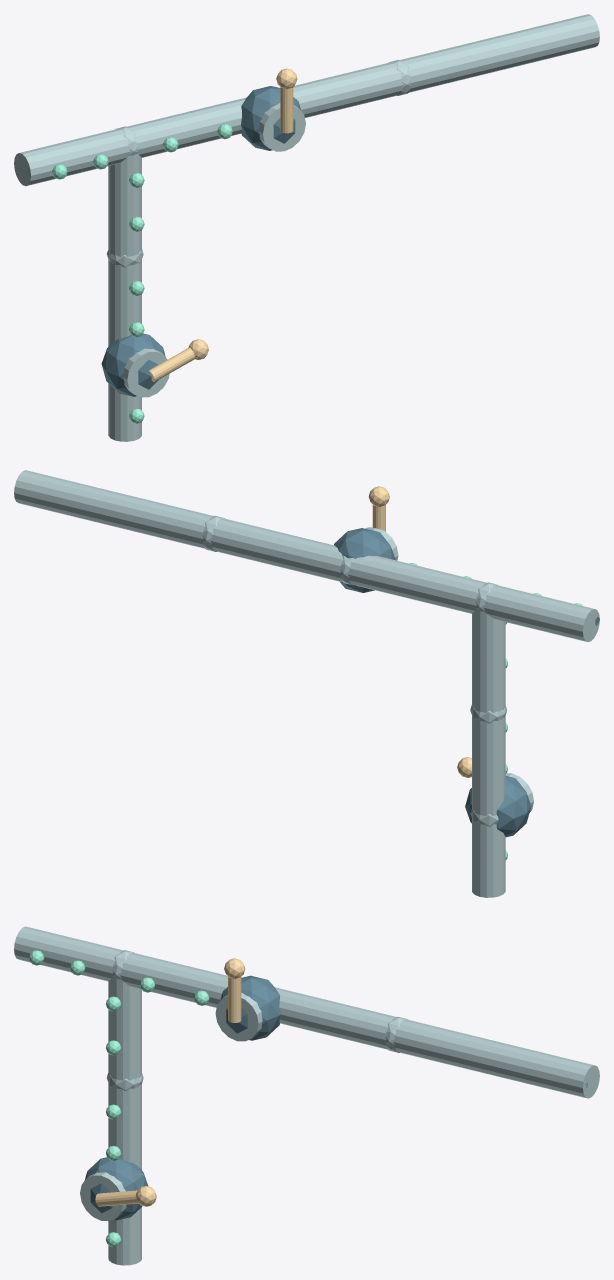
Rendered from air-01-1.glb.
The picture shows the model from 3 angles, top to bottom: view 1: azimuth 30°, elevation 25°; view 2: azimuth 150°, elevation 25°; view 3: azimuth 330°, elevation 25°; orthographic projection.
Visible parts, largest first — view 1: pipe, dark, handle, flow; view 2: pipe, dark, handle; view 3: pipe, dark, handle, flow.
Part boxes in pixels (<box>): pipe: <box>14,14,599,441</box>; dark: <box>28,86,300,396</box>; handle: <box>149,68,297,381</box>; flow: <box>52,124,232,423</box>; pipe: <box>14,470,599,897</box>; dark: <box>334,528,599,837</box>; handle: <box>368,486,471,777</box>; pipe: <box>14,926,599,1265</box>; dark: <box>84,975,587,1220</box>; handle: <box>95,958,245,1206</box>; flow: <box>29,950,209,1247</box>.
Bounding box in the file's own units: 2.77 × 1.64 × 0.343.
